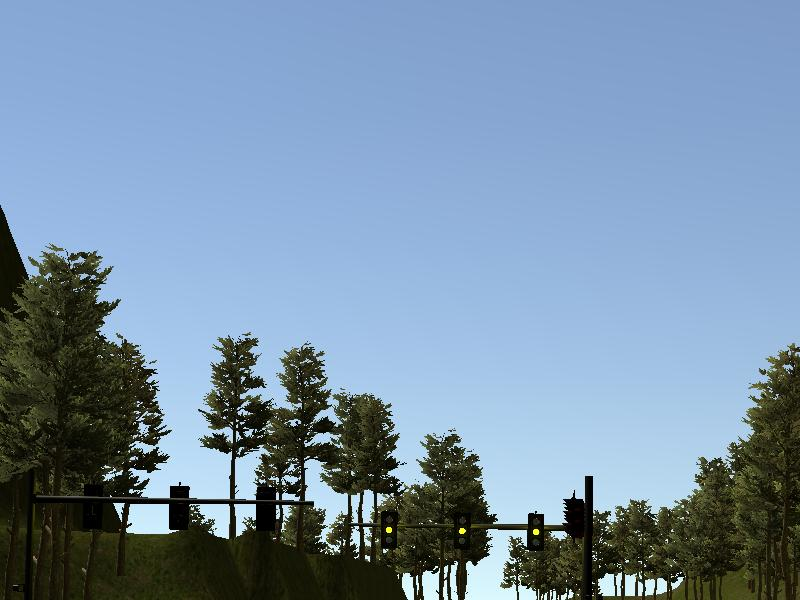Yellow: (526, 512, 545, 551), (379, 511, 397, 550), (454, 512, 471, 549)
